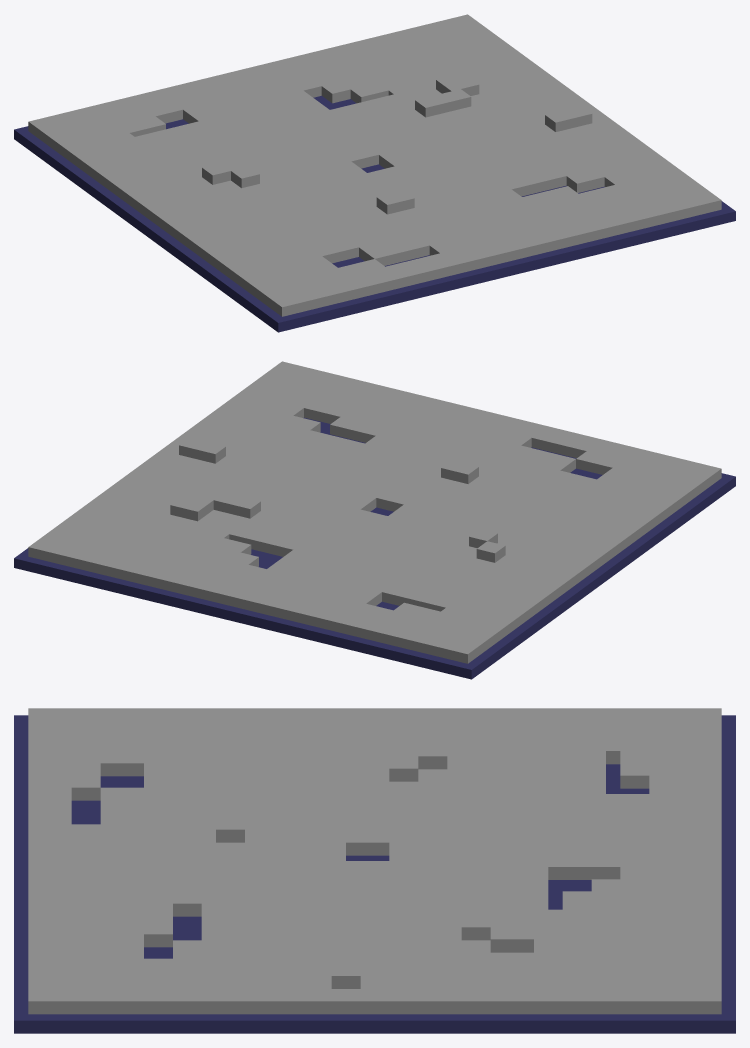
The model's file is FloorTile.obj.
3 views of the same model, one above another, from view 1: azimuth 30°, elevation 25°; view 2: azimuth 150°, elevation 25°; view 3: azimuth 270°, elevation 25° (orthographic). The views are drawn at different scales.
Size of the model in its own units: 50 by 3 by 50.
Materials: 1 (1 with a texture image).
